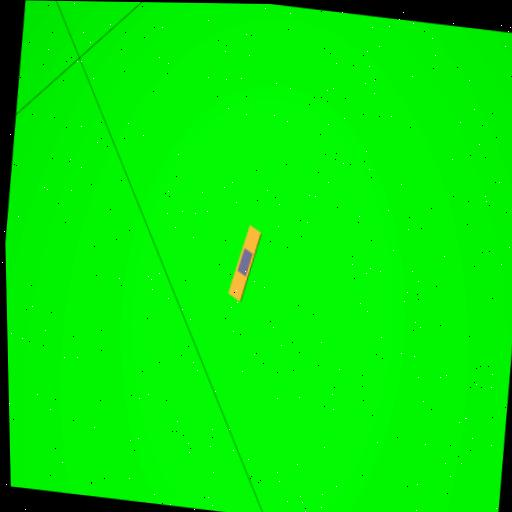objects: (227, 224, 263, 302)
